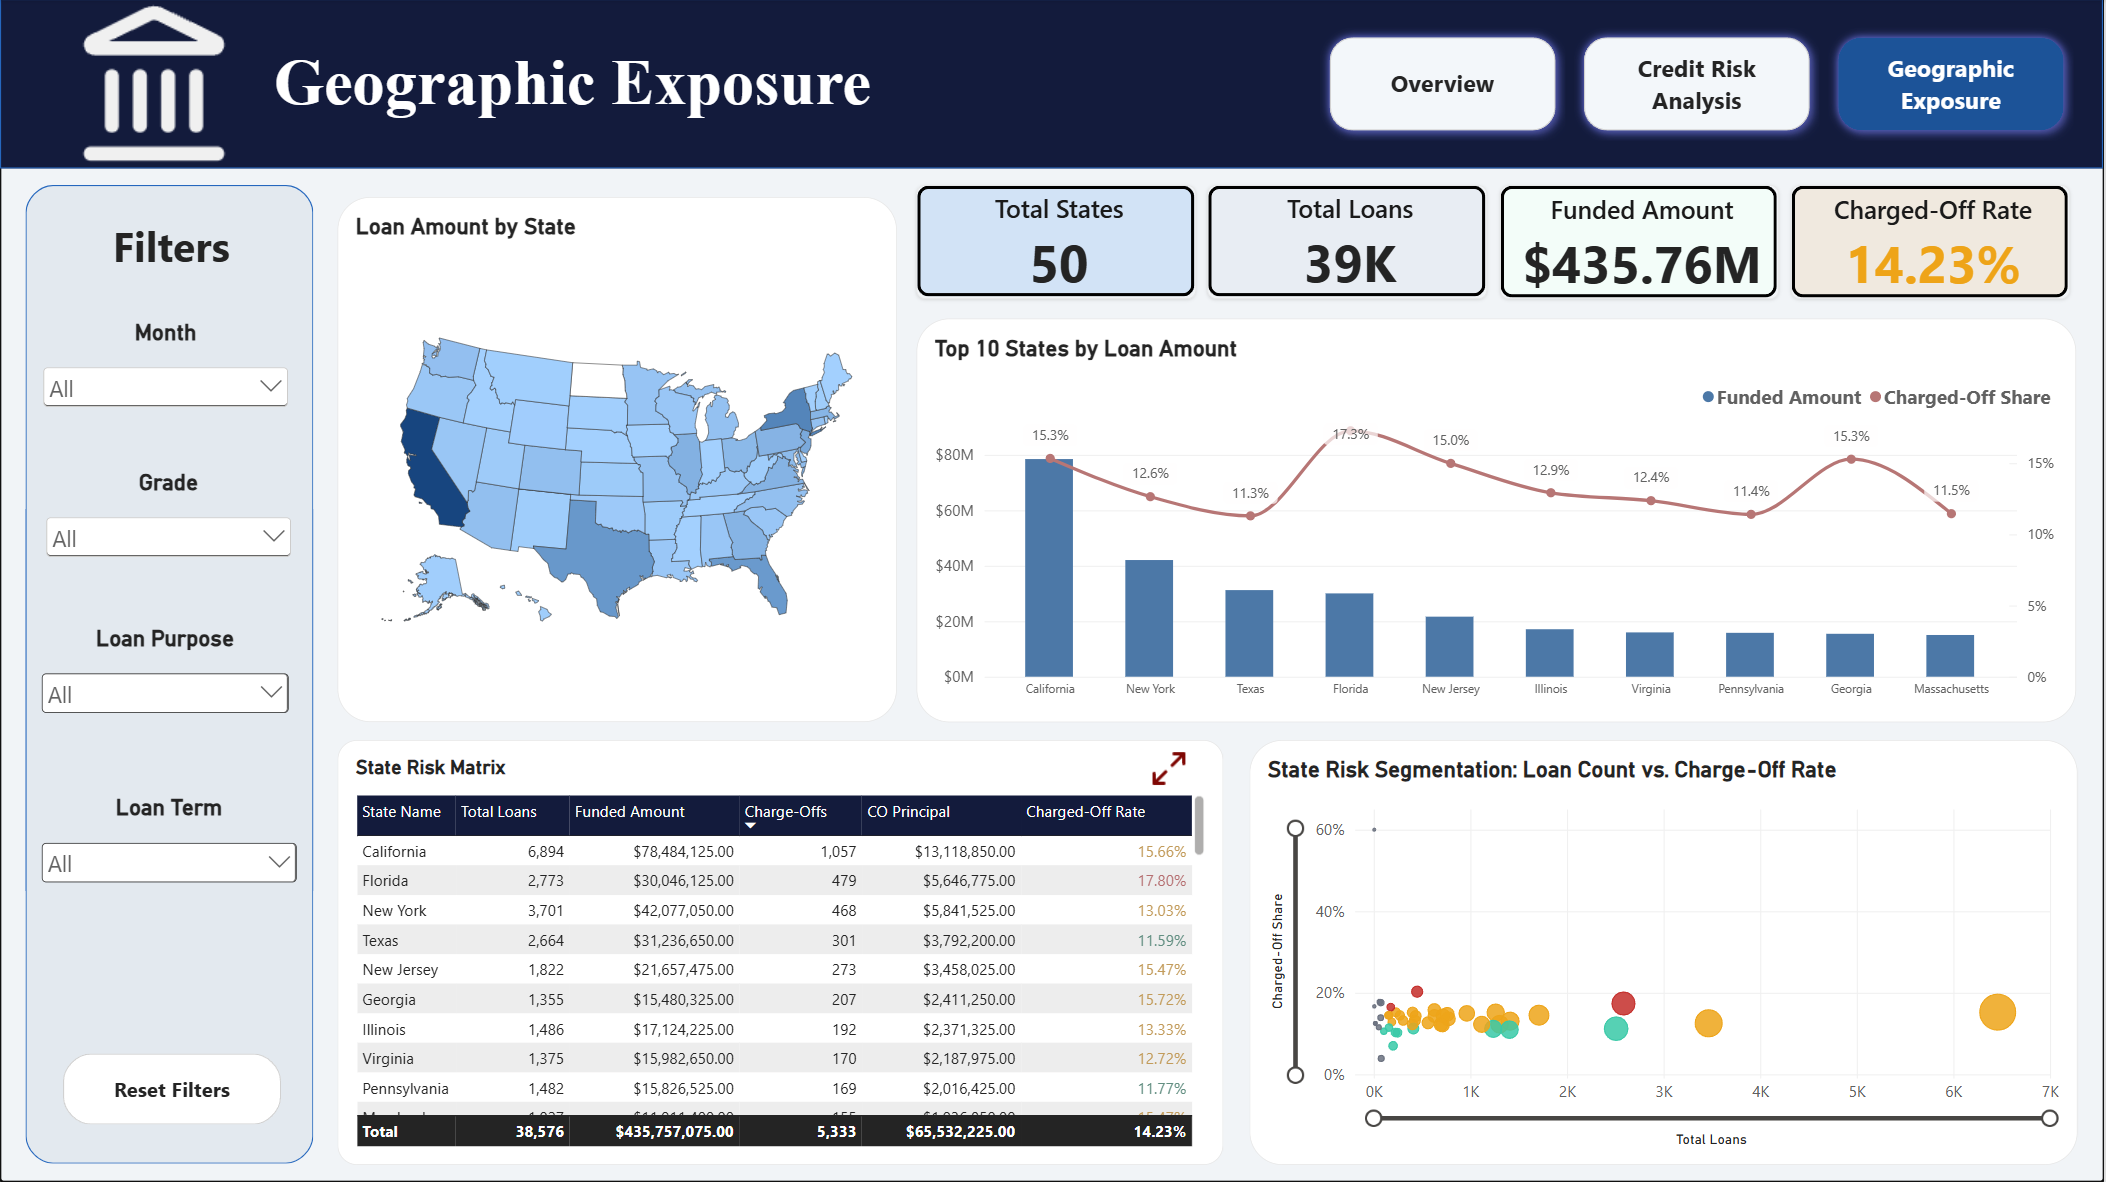

What the dashboard file says about the page in this screenshot:
{"tool":"powerbi","page":{"name":"Geographic Exposure","canvas":[1920,1080],"ordinal":2},"visuals":[{"type":"shape","box":[0,0,1919.9,154.7],"z":0},{"type":"shape","box":[23.6,170.4,262.8,893.5],"z":1000},{"type":"cardVisual","fields":{"Data":["Calculated_Measures.Total Tests"]},"box":[836.7,169.8,255,103.7],"z":2000},{"type":"textbox","box":[207.8,43,610.7,69.9],"z":3000},{"type":"shapeMap","title":"Loan Amount by State","fields":{"Category":["analytics Dim_State.state_name"],"Value":["Calculated_Measures.Funded Amount"]},"box":[308.1,180.8,510.8,479.3],"z":4000},{"type":"slicer","title":"Month","fields":{"Values":["analytics Dim_Date.Date.Variation.Date Hierarchy.Month"]},"box":[34.4,291.8,233.8,125.1],"z":4000},{"type":"slicer","title":"Loan Purpose","fields":{"Values":["analytics Dim_LoanPurpose.purpose"]},"box":[32.9,571,235.6,108.7],"z":5000},{"type":"actionButton","title":"Reset Filter","box":[57.5,962.7,199.1,65],"z":6000},{"type":"slicer","title":"Grade","fields":{"Values":["analytics Dim_CreditGrade.grade"]},"box":[37.1,428.3,233.8,110.6],"z":7000},{"type":"textbox","box":[41.7,199.4,230.5,81.7],"z":8000},{"type":"scatterChart","title":"State Risk Segmentation: Loan Count vs. Charge-Off Rate","fields":{"Category":["analytics Dim_State.state_name"],"Size":["Calculated_Measures.Funded Amount"],"X":["Calculated_Measures.Total Loans"],"Y":["Calculated_Measures.Charged Off Rate"]},"box":[1140,676.1,755.8,387.9],"z":9000},{"type":"lineStackedColumnComboChart","title":"Top 10 States by Loan Amount","fields":{"Category":["analytics Dim_State.state_name"],"Y":["Calculated_Measures.Funded Amount"],"Y2":["Calculated_Measures.Charged Off Rate"]},"box":[836.7,291.7,1058.6,368.4],"z":10000},{"type":"slicer","title":"Loan Term","fields":{"Values":["analytics Fact_Loan.term"]},"box":[32.9,725.8,242.9,108.7],"z":11000},{"type":"tableEx","title":"State Risk Matrix","fields":{"Values":["analytics Dim_State.state_name","Calculated_Measures.Total Loans","Calculated_Measures.Funded Amount","Calculated_Measures.chargedoffloans","Calculated_Measures.Charged Off Amount","Calculated_Measures.Charged-Off Rate"]},"box":[308.1,676.1,808.4,387.9],"z":13000},{"type":"pageNavigator","box":[1204.6,26.3,690.6,103.3],"z":14000},{"type":"cardVisual","fields":{"Data":["Calculated_Measures.Total Loans"]},"box":[1102.8,169.8,255,103.7],"z":15000},{"type":"cardVisual","fields":{"Data":["Calculated_Measures.2_Funded Amount"]},"box":[1369.4,169.8,254.7,104.1],"z":16000},{"type":"cardVisual","fields":{"Data":["Calculated_Measures.Charged-Off Rate"]},"box":[1635.1,169.8,254.7,104.1],"z":17000},{"type":"image","box":[10.9,0,259,154],"z":18000},{"type":"actionButton","title":"Maximize","box":[1033.1,679.7,68.9,47.1],"z":18002}]}

Visuals, with their boxes in screenshot pixels (x1, y1, x2, y2), scaled from the page's 1920x1080 canvas onto the 2106x1182 screenshot:
shape: (0, 0, 2105, 169)
shape: (26, 186, 314, 1164)
cardVisual - Calculated_Measures.Total Tests: (918, 186, 1197, 299)
textbox: (228, 47, 898, 124)
"Loan Amount by State" shapeMap: (338, 198, 898, 722)
"Month" slicer: (38, 319, 294, 456)
"Loan Purpose" slicer: (36, 625, 295, 744)
"Reset Filter" actionButton: (63, 1054, 281, 1125)
"Grade" slicer: (41, 469, 297, 590)
textbox: (46, 218, 299, 308)
"State Risk Segmentation: Loan Count vs. Charge-Off Rate" scatterChart: (1250, 740, 2079, 1164)
"Top 10 States by Loan Amount" lineStackedColumnComboChart: (918, 319, 2079, 722)
"Loan Term" slicer: (36, 794, 303, 913)
"State Risk Matrix" tableEx: (338, 740, 1225, 1164)
pageNavigator: (1321, 29, 2079, 142)
cardVisual - Calculated_Measures.Total Loans: (1210, 186, 1489, 299)
cardVisual - Calculated_Measures.2_Funded Amount: (1502, 186, 1781, 300)
cardVisual - Calculated_Measures.Charged-Off Rate: (1794, 186, 2073, 300)
image: (12, 0, 296, 169)
"Maximize" actionButton: (1133, 744, 1209, 795)
